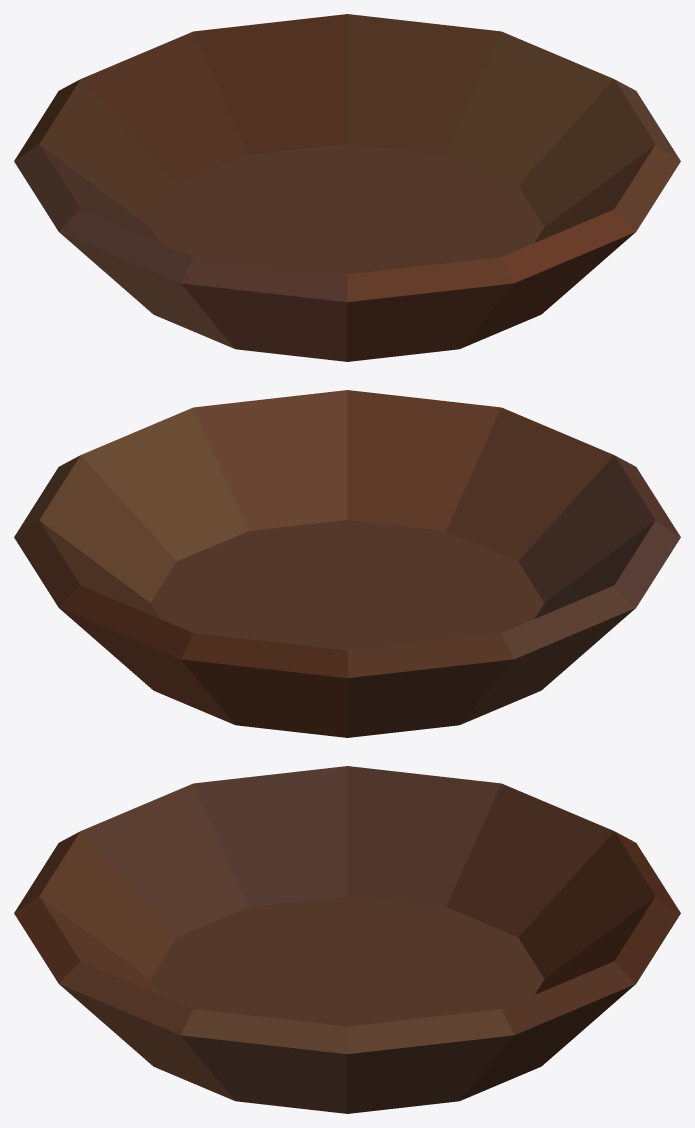
File: Prop_BowlSmallA.fbx
3 renders of one model, top to bottom at view 1: azimuth 30°, elevation 25°; view 2: azimuth 150°, elevation 25°; view 3: azimuth 270°, elevation 25°, orthographic.
Visible parts, largest first — view 1: Prop_BowlSmallA; view 2: Prop_BowlSmallA; view 3: Prop_BowlSmallA.
Part boxes in pixels (x1=…): Prop_BowlSmallA: x1=14, y1=14, x2=680, y2=361; Prop_BowlSmallA: x1=14, y1=390, x2=680, y2=737; Prop_BowlSmallA: x1=14, y1=766, x2=680, y2=1113.
Size of the model in its own units: 14.56 by 2.96 by 14.56.
